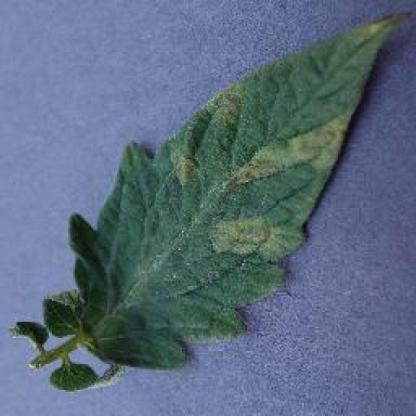Tomato_Leaf_Mold: (70, 12, 412, 365)
